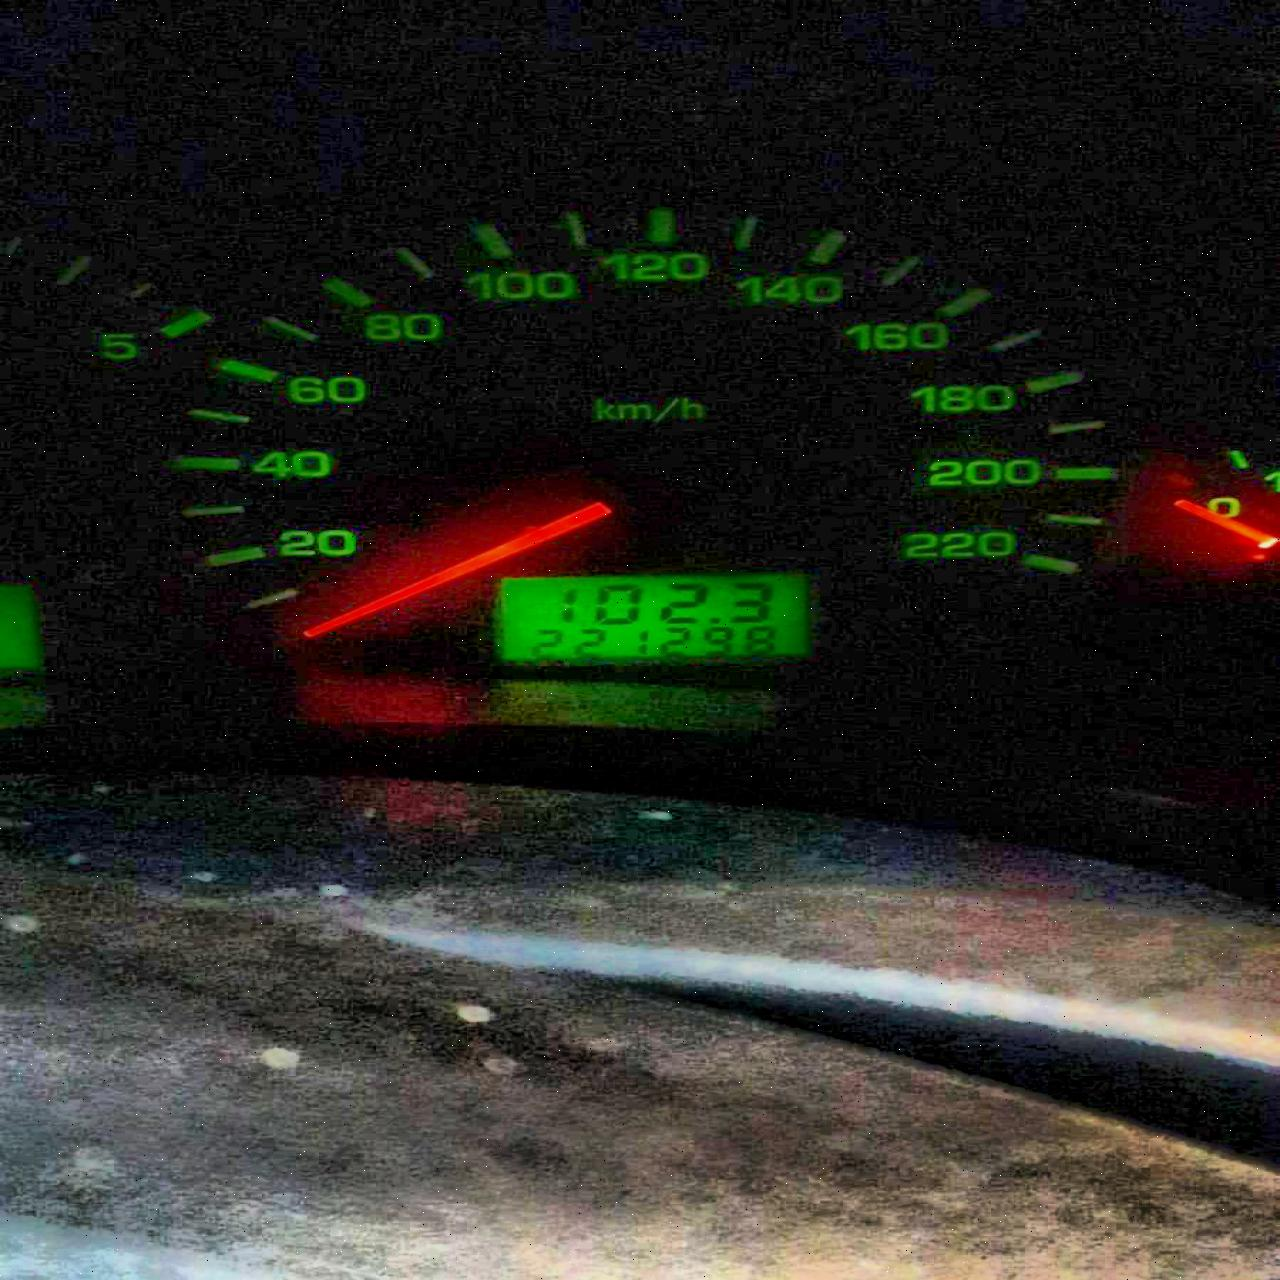-: (708, 617, 721, 624)
0: (594, 581, 642, 625)
1: (557, 587, 577, 622), (635, 629, 649, 654)
2: (658, 583, 707, 622), (530, 628, 563, 658), (571, 628, 604, 658), (658, 626, 689, 655)
3: (729, 583, 770, 622)
8: (744, 626, 775, 655)
9: (702, 626, 731, 655)
odometer: (495, 571, 812, 660)
